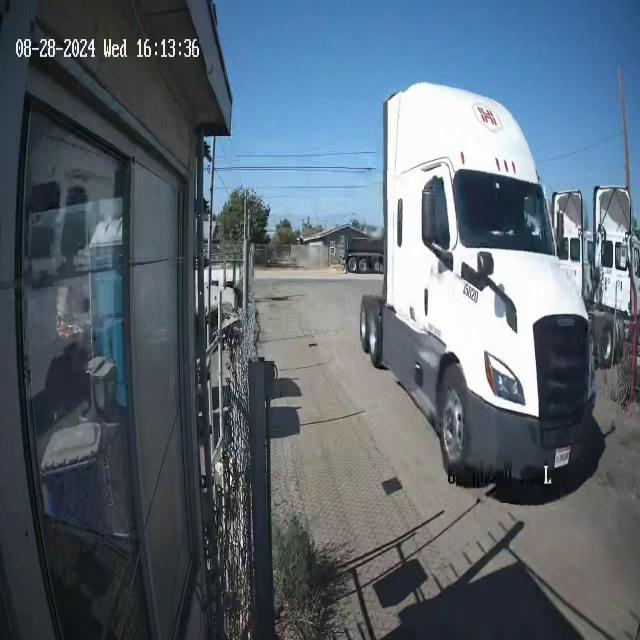TRUCK_IN: (359, 80, 597, 490)
